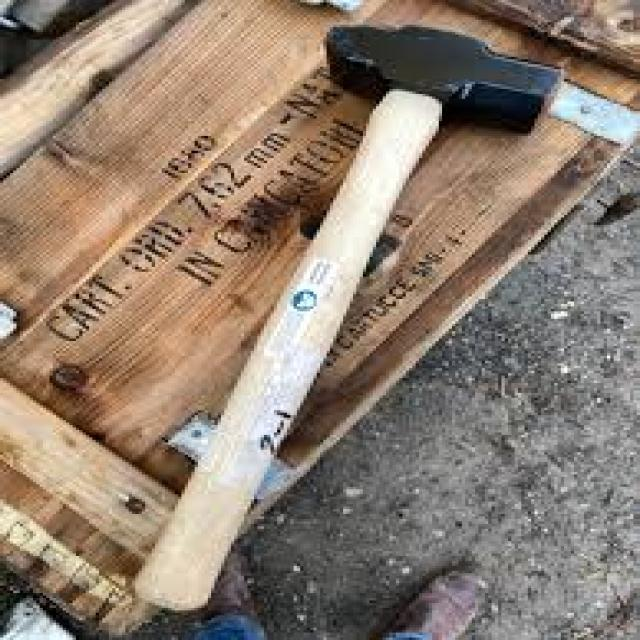hammer: (124, 15, 576, 618)
